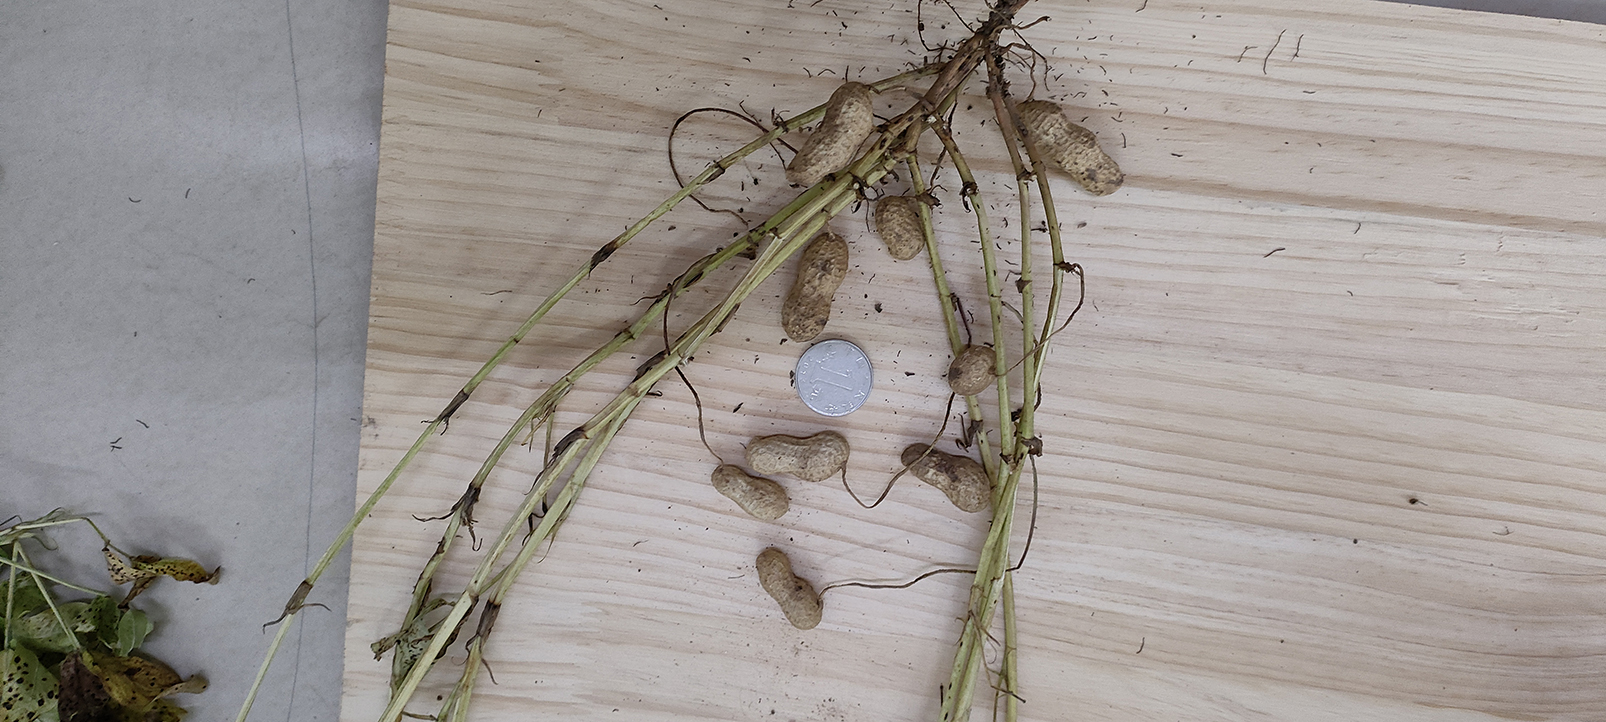h: (1013, 98, 1124, 196), (786, 82, 873, 186), (781, 235, 850, 343), (757, 545, 823, 630), (744, 431, 852, 482), (711, 464, 788, 520), (875, 194, 926, 259), (949, 343, 996, 396)
l: (897, 440, 990, 511)
